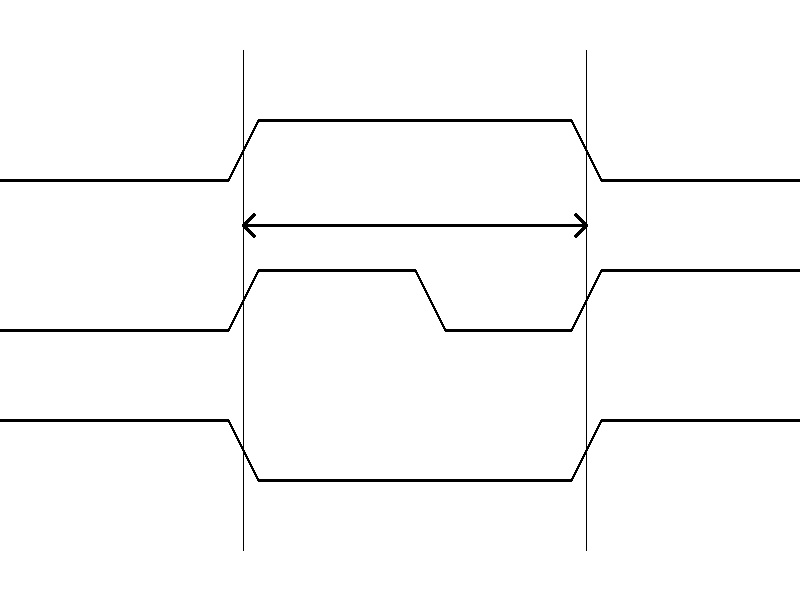double_arrow: (243, 210, 586, 240)
